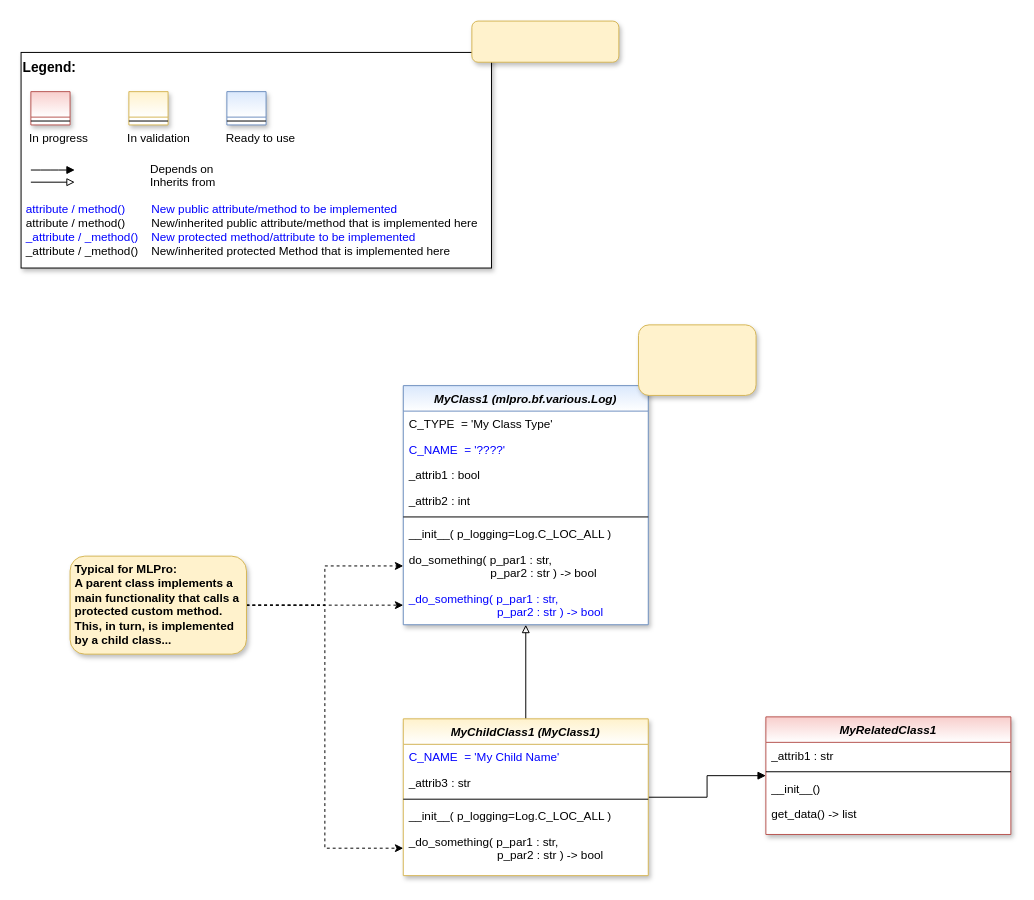
The diagram is 1034 pixels wide and 900 high, and some of its shapes have lost their labels. The centre of each missing label's shape, as x and y in pixels:
Every single annotation helps others unstanding your design...: pixel 698 361
Please place the legend appropriately...: pixel 546 42
